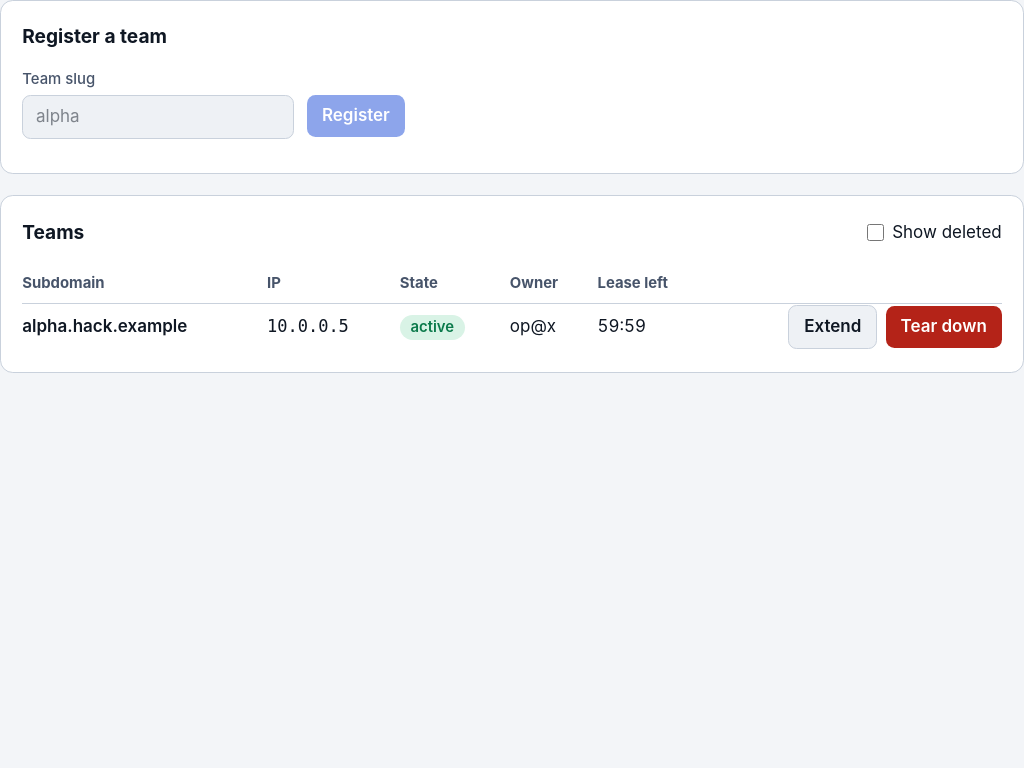
it: Teams › an operator tears a team down only after the confirmation lists what changes
What coordinates should you click on to do the following:
click the button "Tear down"
I would click on:
 (944, 327)
Its box is [886,306,1002,348].
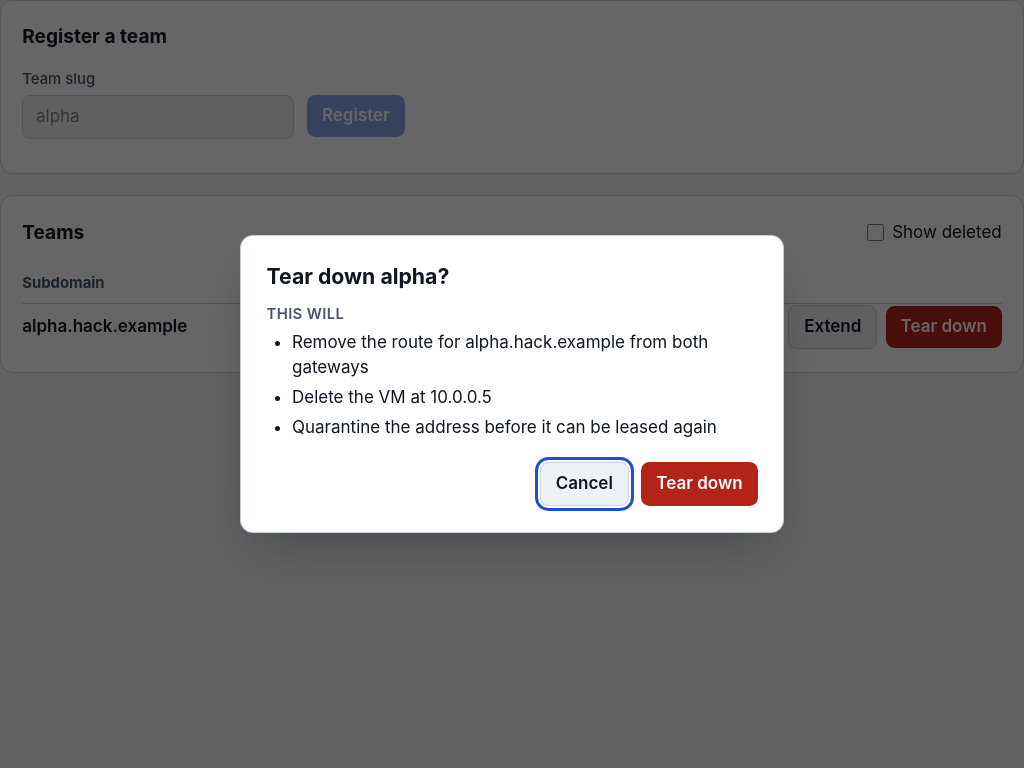
Now the list item "Remove the route for alpha.hack.example from both gateways" is shown, box [292,330,758,381]
What coordinates should you click on to do the following:
click the button "Tear down"
I would click on:
 (700, 484)
Its box is [642,462,758,506].
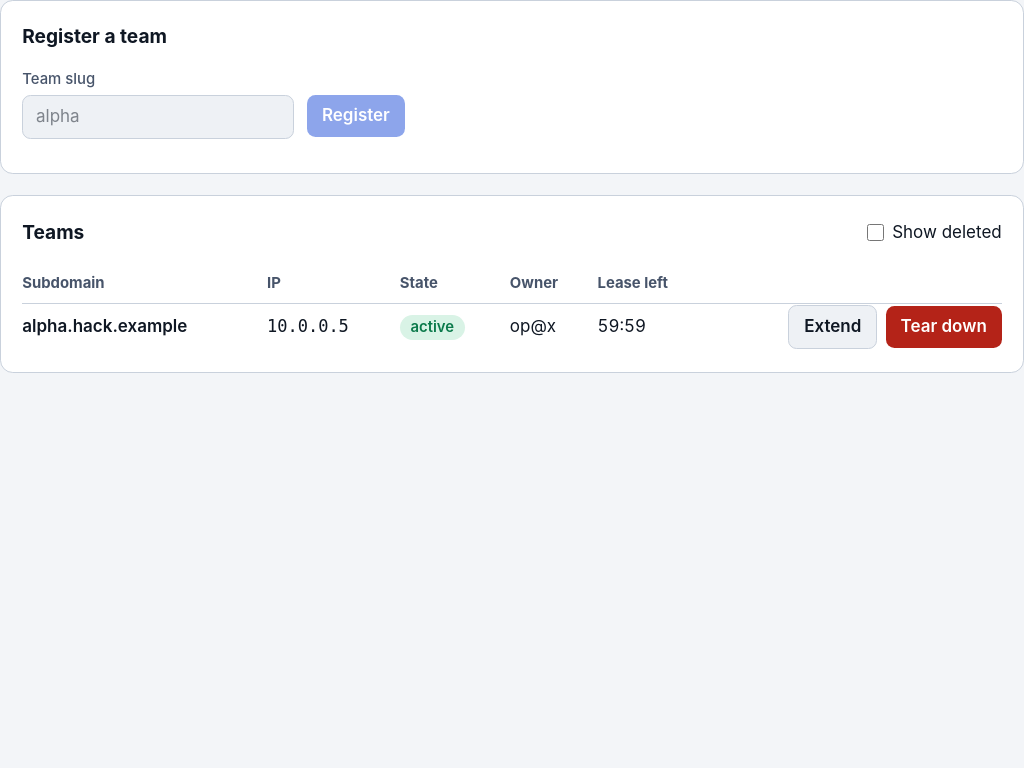
Now the dialog is gone
